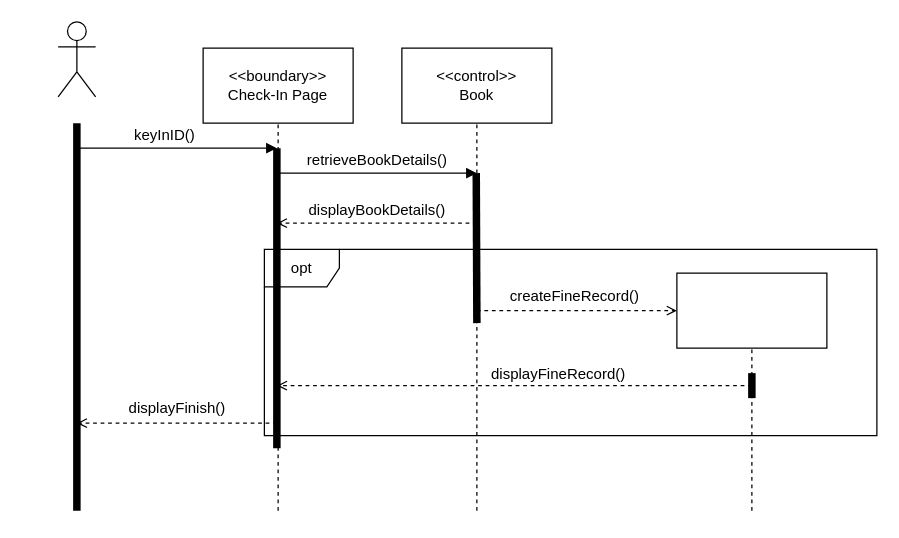
This 899x538 diagram has some shape labels left out. Each missing label, with the centre of its shape:
<<entity>> Fine Record: (751,310)
Library Assistant: (76,59)
